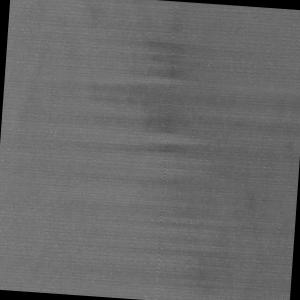Wrinkle: (1, 1, 300, 174)
